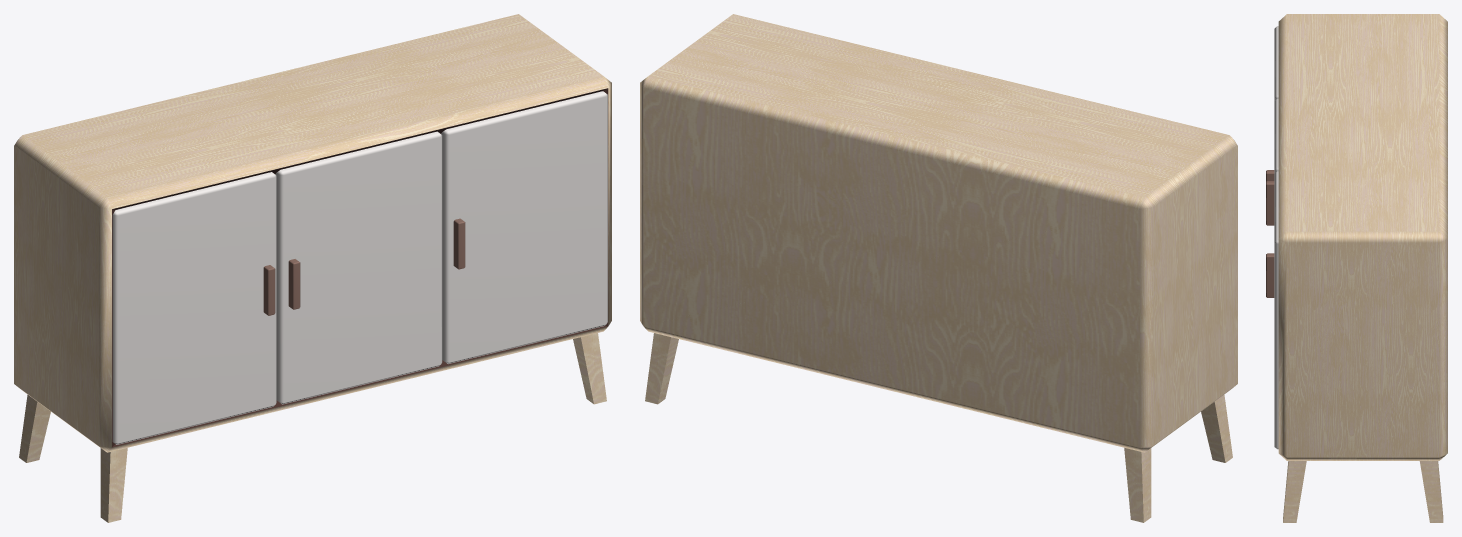
File: dresser_009.fbx
3 renders of one model, left to right at view 1: azimuth 30°, elevation 25°; view 2: azimuth 150°, elevation 25°; view 3: azimuth 270°, elevation 25°, orthographic. The views are drawn at different scales.
Visible parts, largest first — view 1: dresser_009; view 2: dresser_009; view 3: dresser_009.
Part boxes in pixels (box(x1,y1,x2,y2)): dresser_009: box(14, 14, 611, 522); dresser_009: box(640, 14, 1237, 522); dresser_009: box(1266, 14, 1447, 522).
Bounding box in the file's own units: 181 × 62.03 × 109.
